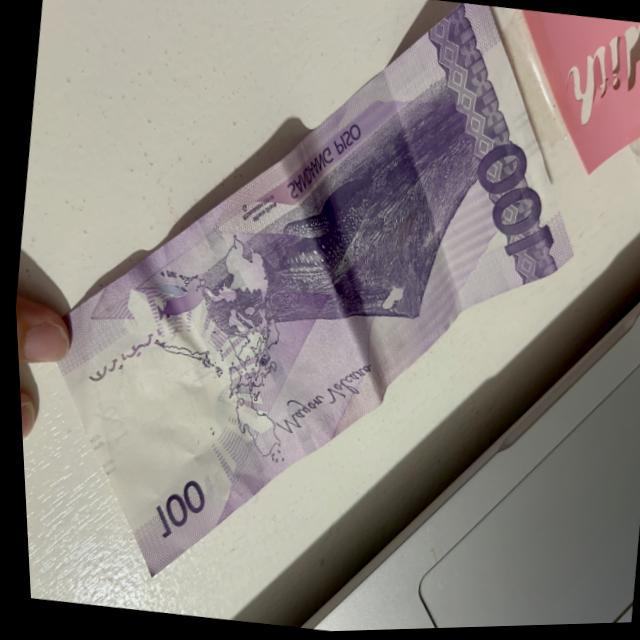100_whale: (253, 169, 373, 298)
100_whale_watermark: (150, 273, 200, 325)
value_watermark: (92, 404, 127, 449)
